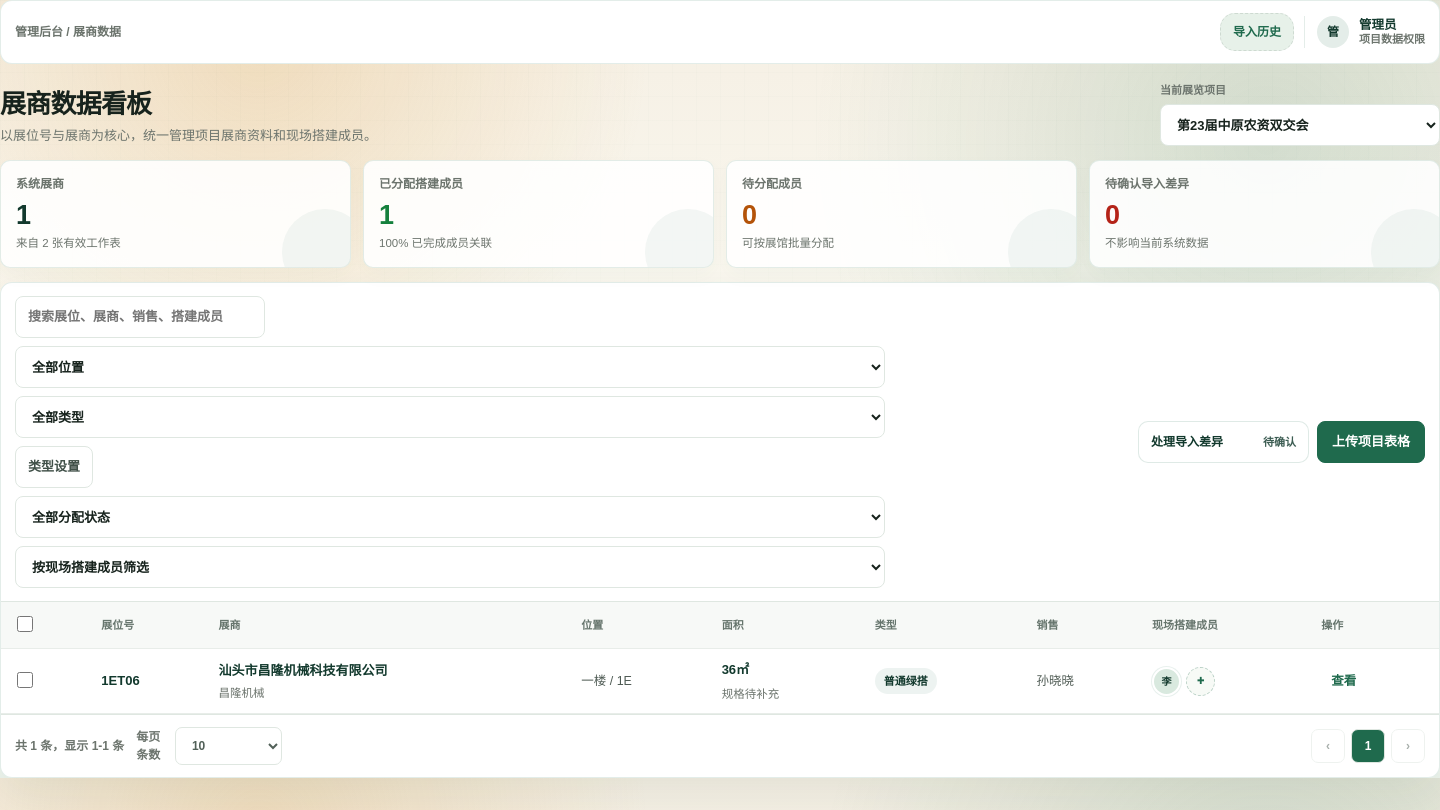
Test: ExhibitorDashboard › closes nested member assignment before the detail drawer and restores focus inside the drawer
Step 1. Click the button with aria-label "查看汕头市昌隆机械科技有限公司" → (1344, 681), box [1321, 664, 1366, 698]
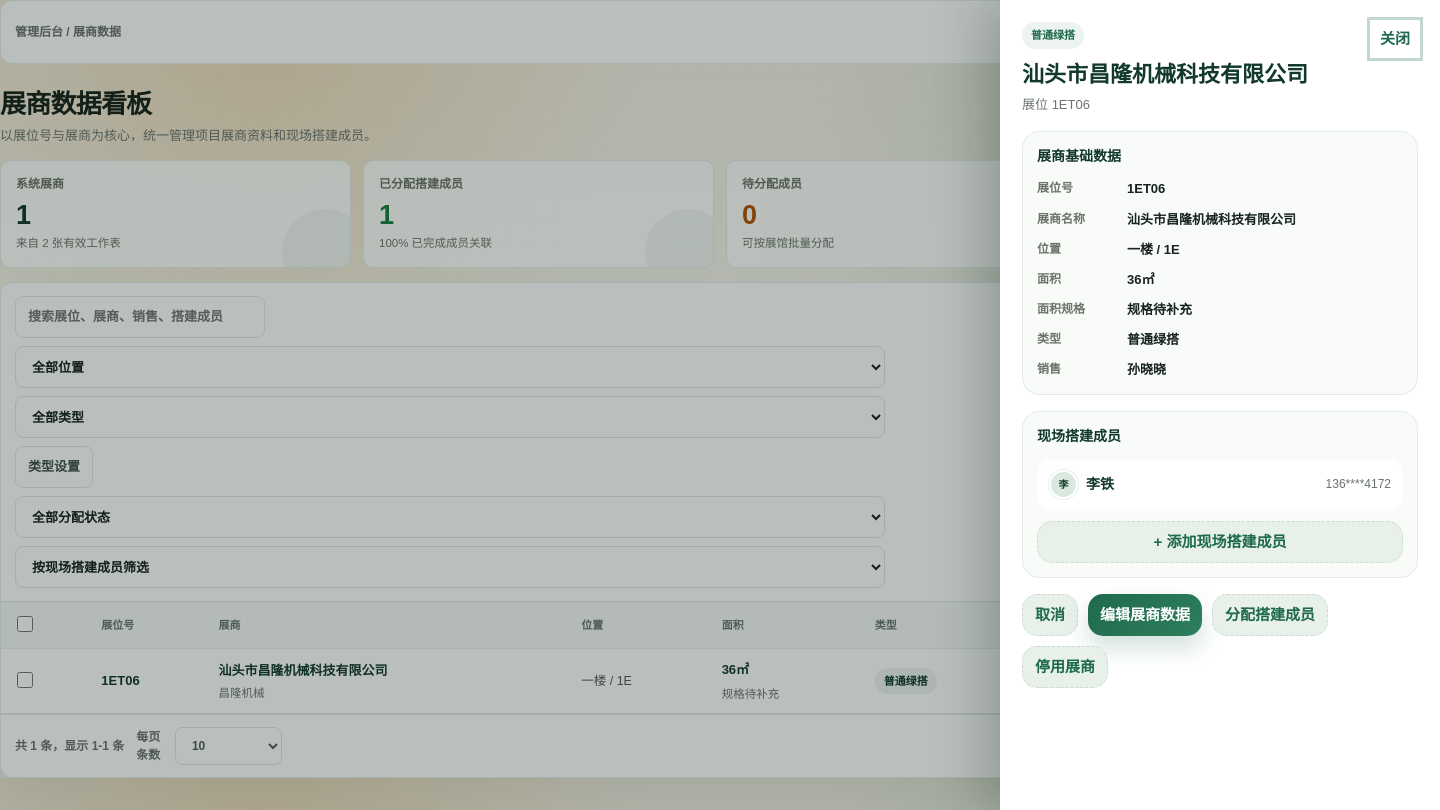
Step 2. Click the button "+ 添加现场搭建成员" → (1220, 542), box [1037, 521, 1403, 563]
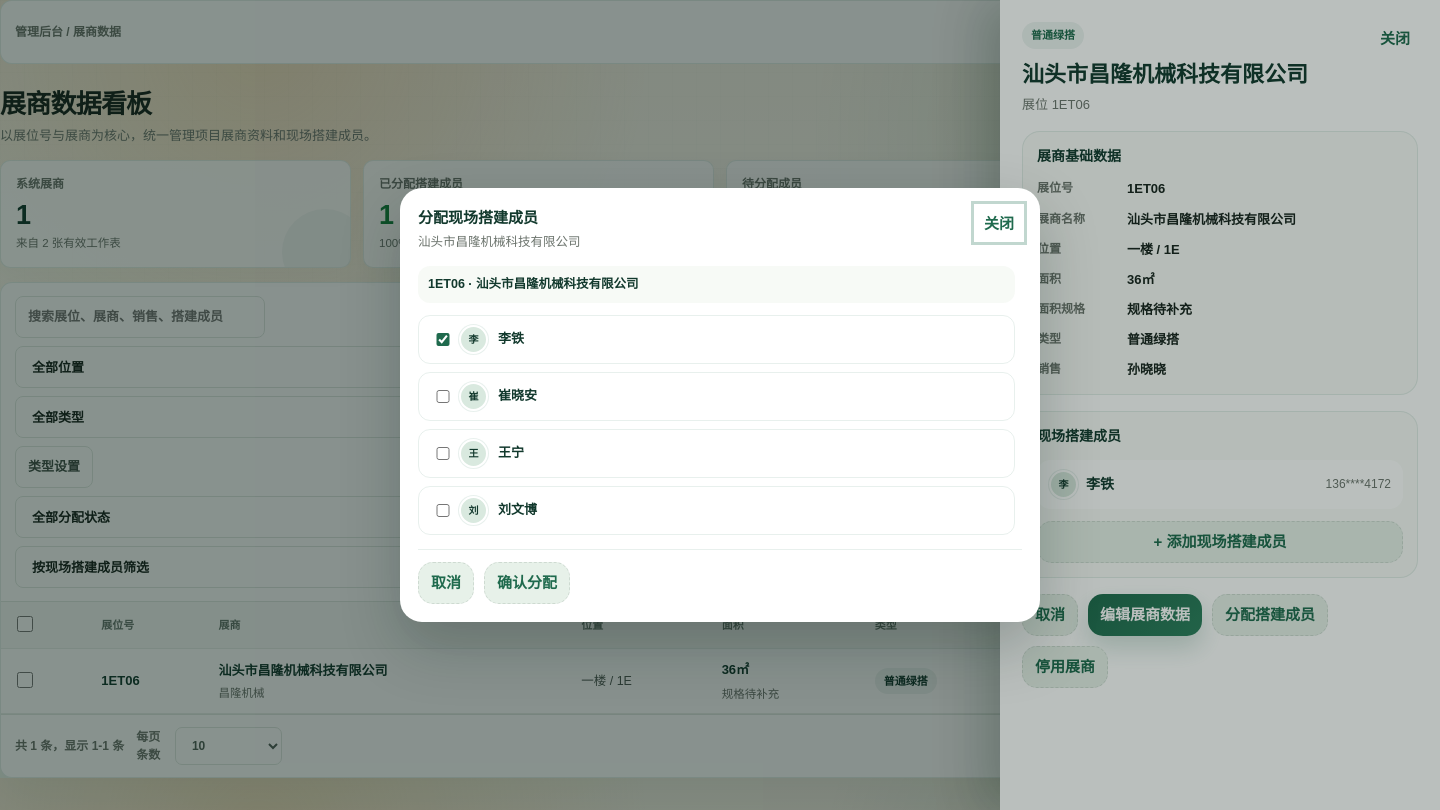
Expected: the dialog "分配现场搭建成员" is shown, [400, 188, 1040, 622]
Step 3. Press Escape
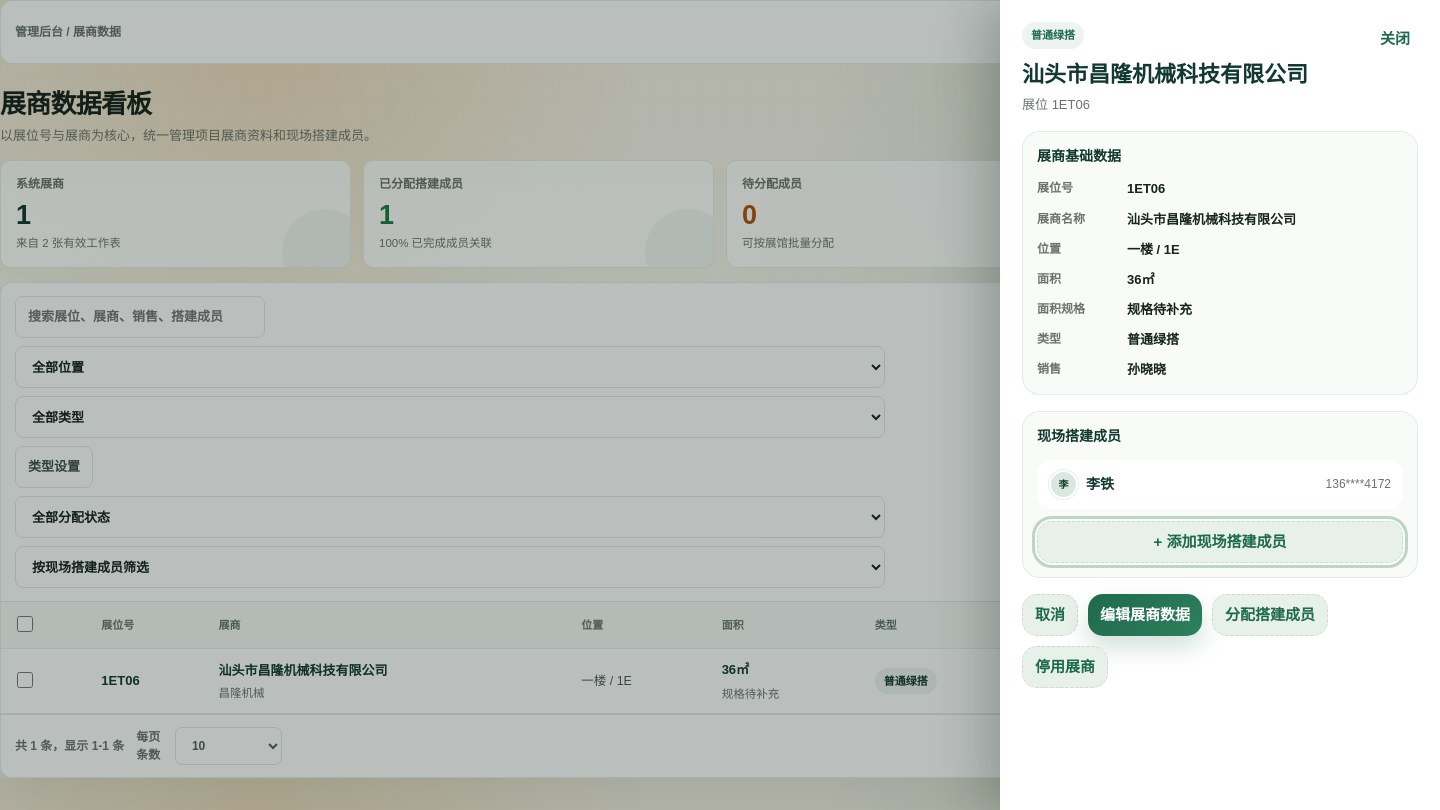
Expected: the heading "分配现场搭建成员" is gone
